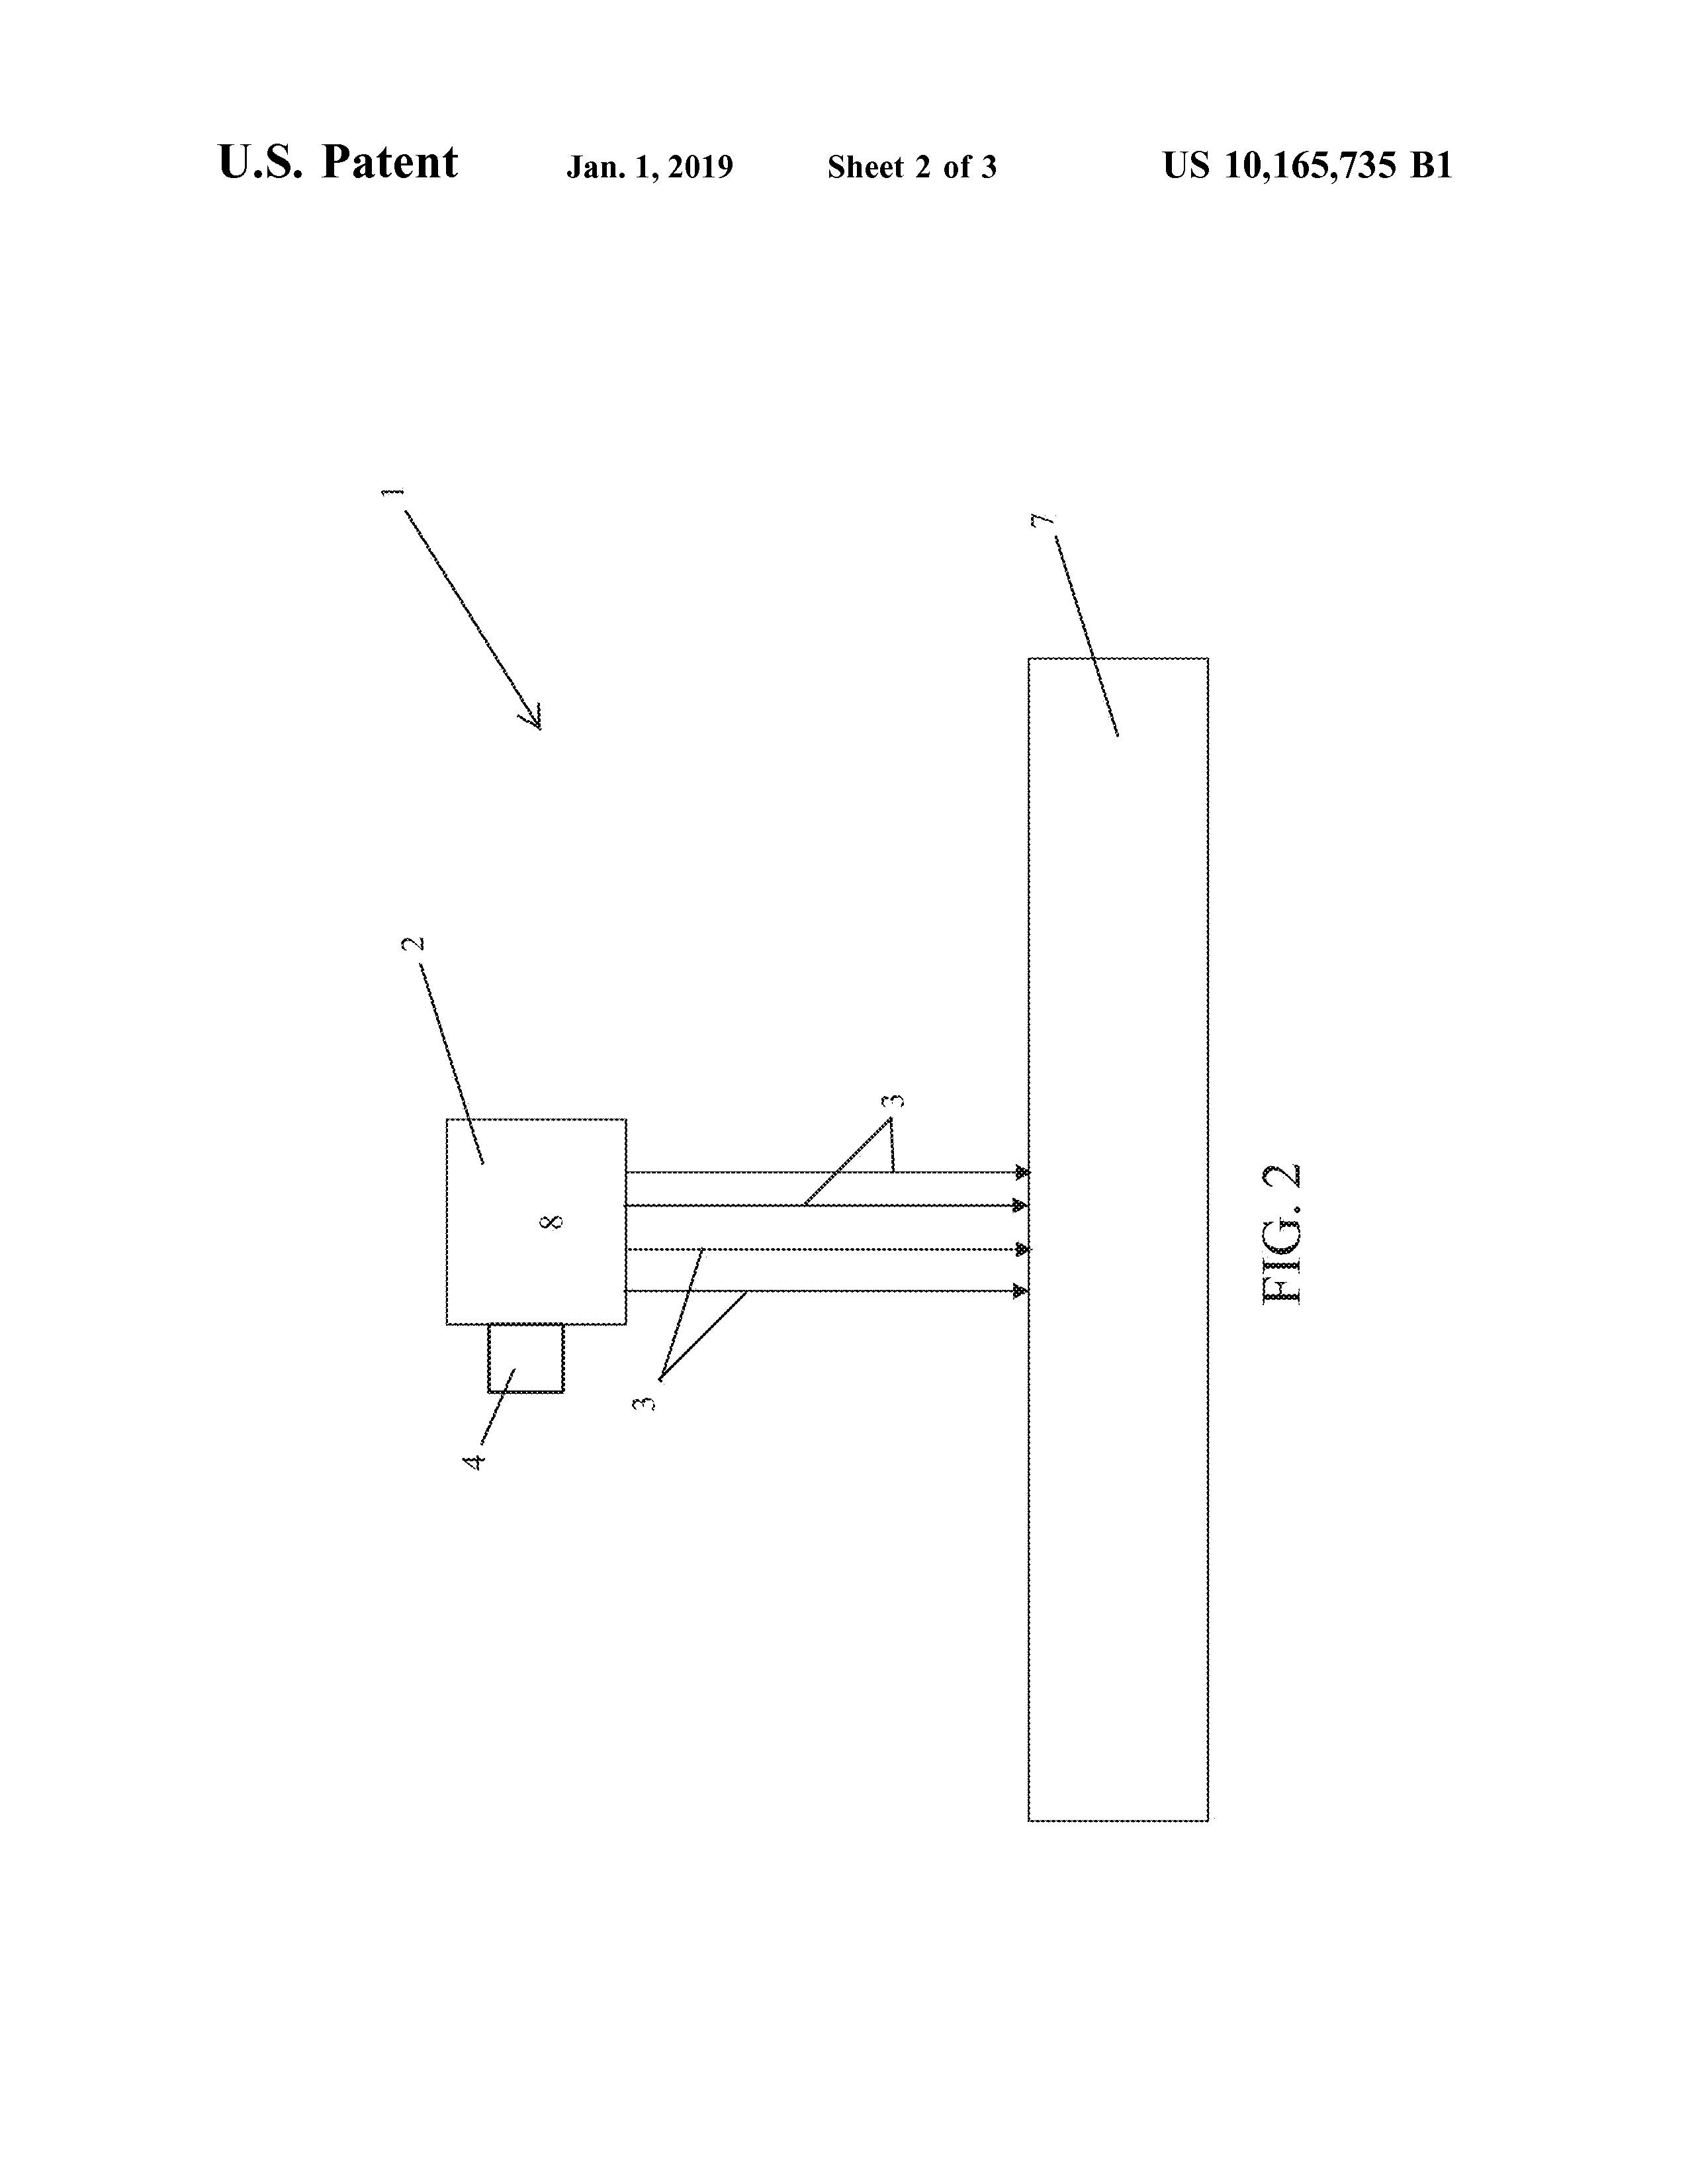patent image: (319, 368, 1452, 1968)
